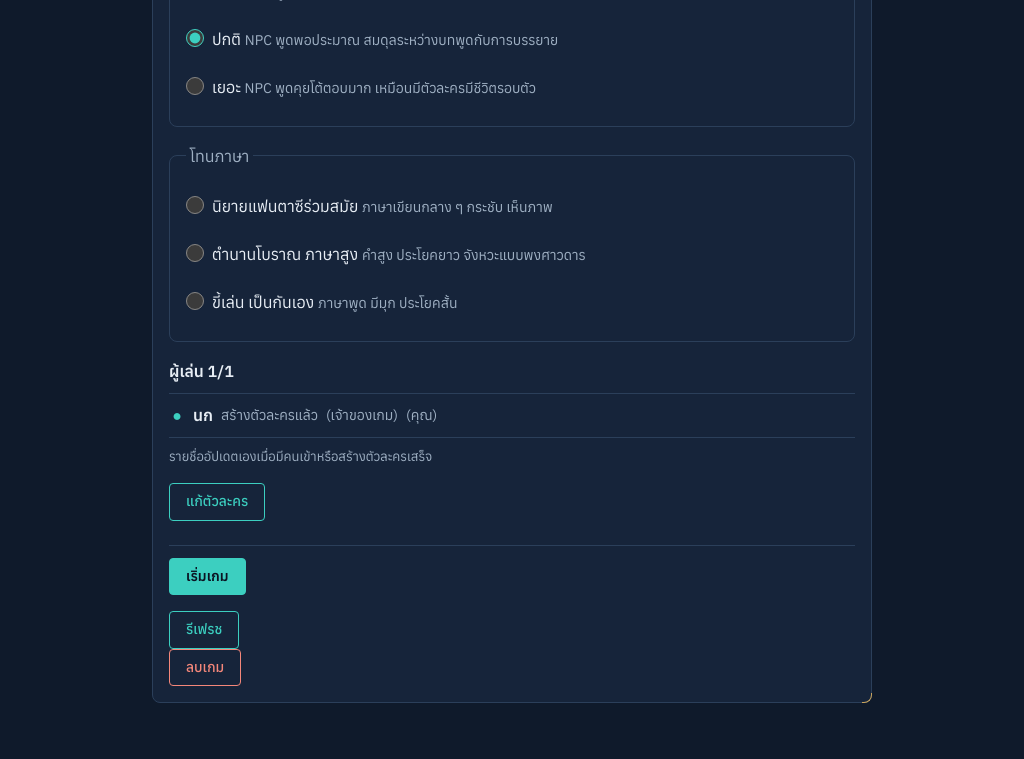
Scenario: Character loot step (GEN-048) › C7: the reroll button is disabled while a request is in flight and when the quota is used up
(page scrolled)
Click the button "แก้ตัวละคร" at (217, 502), box [169,483,265,521]
(page scrolled)
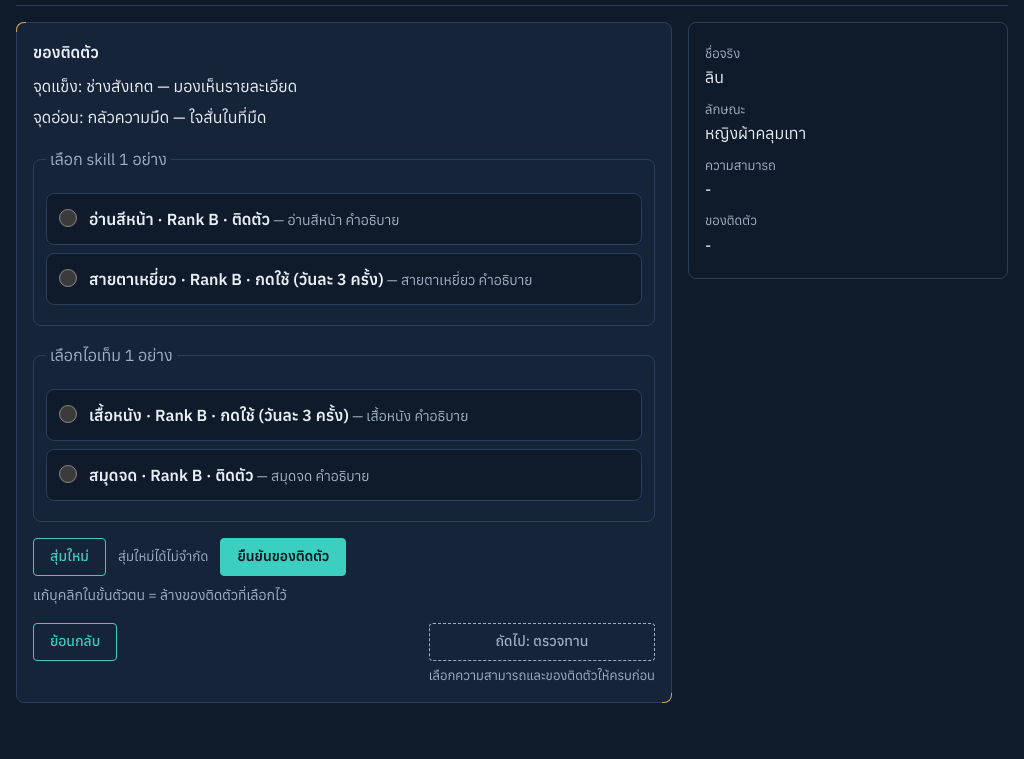
Click the button "สุ่มใหม่" at (70, 557), box [33,538,106,576]
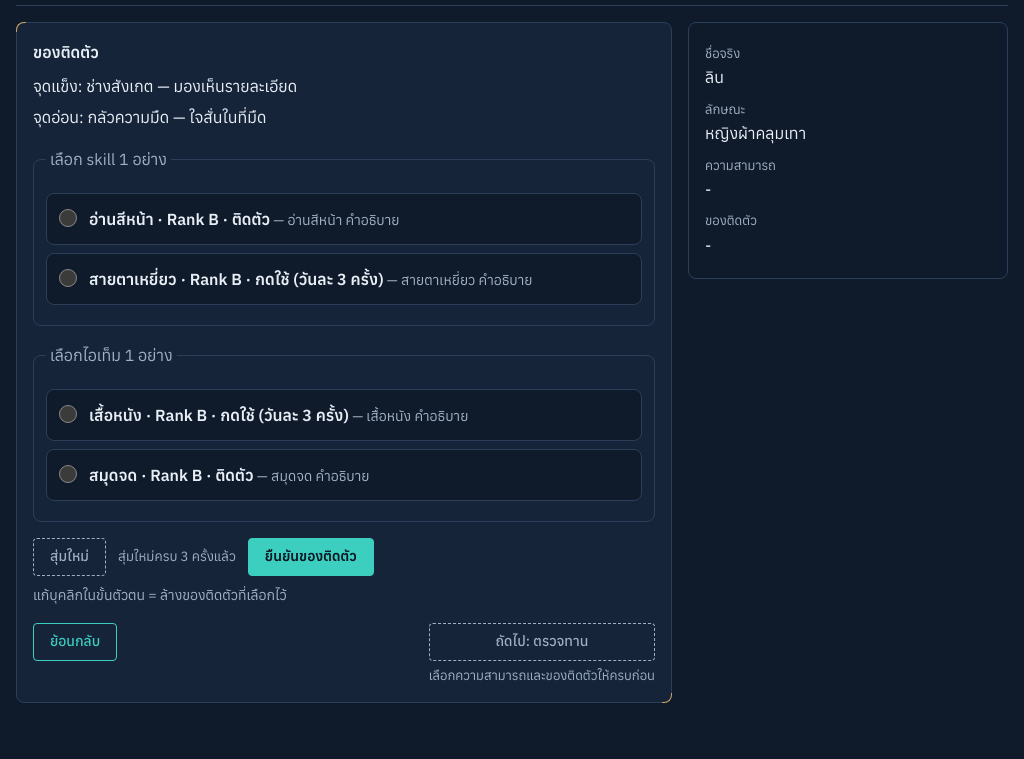
Check: the text "สุ่มใหม่ครบ 3 ครั้งแล้ว" is shown, box [118,546,236,568]
Check: the button "สุ่มใหม่" is disabled, box [33,538,106,576]
